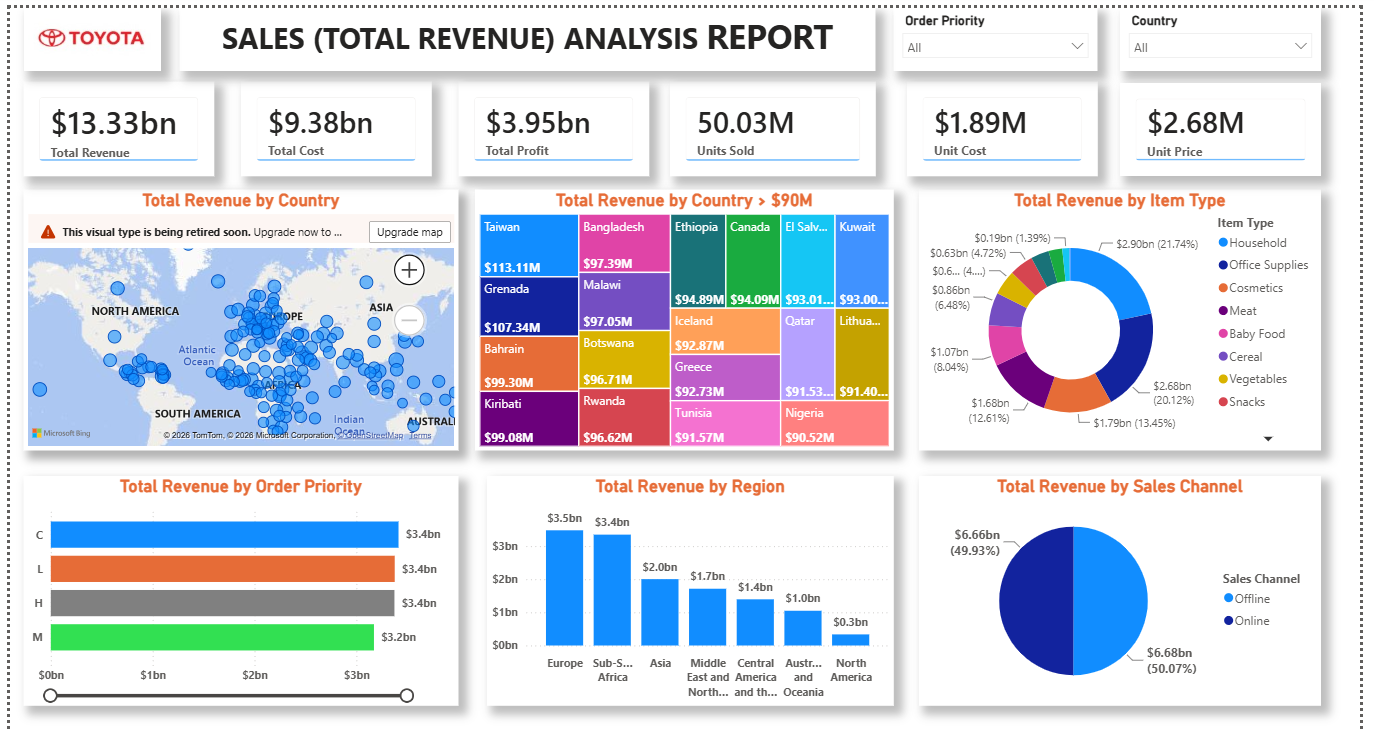

The page's visual inventory and layout, read from the dashboard file:
{"tool":"powerbi","page":{"name":"Page 1","canvas":[1500,900],"ordinal":0},"visuals":[{"type":"map","title":"Total Revenue by Country","fields":{"Category":["SalesRecords.Country"],"Size":["Sum(SalesRecords.Total Revenue)"]},"box":[15,201.7,483.3,290],"z":0},{"type":"slicer","title":"Total Revenue by Country > $90M","fields":{"Values":["SalesRecords.Country"]},"box":[1233.3,0,223.3,70],"z":1000},{"type":"donutChart","title":"Total Revenue by Item Type","fields":{"Category":["SalesRecords.Item Type"],"Y":["Sum(SalesRecords.Total Revenue)"]},"box":[1010,201.7,446.7,290],"z":2000},{"type":"barChart","title":"Total Revenue by Order Priority","fields":{"Category":["SalesRecords.Order Priority"],"Y":["Sum(SalesRecords.Total Revenue)"]},"box":[15,520,483.3,255],"z":3000},{"type":"columnChart","title":"Total Revenue by Region","fields":{"Category":["SalesRecords.Region"],"Y":["Sum(SalesRecords.Total Revenue)"]},"box":[530,520,451.7,255],"z":4000},{"type":"pieChart","title":"Total Revenue by Sales Channel","fields":{"Category":["SalesRecords.Sales Channel"],"Y":["Sum(SalesRecords.Total Revenue)"]},"box":[1010,520,446.7,255],"z":5000},{"type":"cardVisual","fields":{"Data":["Sum(SalesRecords.Total Revenue)"]},"box":[15,81.7,211.7,105],"z":6000},{"type":"cardVisual","fields":{"Data":["Sum(SalesRecords.Total Cost)"]},"box":[256.7,81.7,211.7,105],"z":7000},{"type":"cardVisual","fields":{"Data":["Sum(SalesRecords.Total Profit)"]},"box":[498.3,81.7,211.7,105],"z":8000},{"type":"cardVisual","fields":{"Data":["Sum(SalesRecords.Units Sold)"]},"box":[733.3,81.7,228.3,105],"z":9000},{"type":"cardVisual","fields":{"Data":["Sum(SalesRecords.Unit Cost)"]},"box":[996.7,81.7,211.7,105],"z":10000},{"type":"cardVisual","fields":{"Data":["Sum(SalesRecords.Unit Price)"]},"box":[1233.3,83.3,223.3,103.3],"z":11000},{"type":"treemap","title":"Total Revenue by Country > $90M","fields":{"Group":["SalesRecords.Country"],"Values":["Sum(SalesRecords.Total Revenue)"]},"box":[516.7,201.7,465,290],"z":12000},{"type":"slicer","fields":{"Values":["SalesRecords.Order Priority"]},"box":[981.7,0,226.7,70],"z":13000},{"type":"textbox","box":[188.3,0,773.3,70],"z":14000},{"type":"image","box":[15,0,153.3,70],"z":15000}]}

Visuals, with their boxes on the page's 1500x900 design canvas (x1, y1, x2, y2). These are canvas units, not pixel positions in the 1374x732 screenshot, which may show the page scaled, cropped or inside an application window:
"Total Revenue by Country" map: rect(15, 202, 498, 492)
"Total Revenue by Country > $90M" slicer: rect(1233, 0, 1457, 70)
"Total Revenue by Item Type" donutChart: rect(1010, 202, 1457, 492)
"Total Revenue by Order Priority" barChart: rect(15, 520, 498, 775)
"Total Revenue by Region" columnChart: rect(530, 520, 982, 775)
"Total Revenue by Sales Channel" pieChart: rect(1010, 520, 1457, 775)
cardVisual - Sum(SalesRecords.Total Revenue): rect(15, 82, 227, 187)
cardVisual - Sum(SalesRecords.Total Cost): rect(257, 82, 468, 187)
cardVisual - Sum(SalesRecords.Total Profit): rect(498, 82, 710, 187)
cardVisual - Sum(SalesRecords.Units Sold): rect(733, 82, 962, 187)
cardVisual - Sum(SalesRecords.Unit Cost): rect(997, 82, 1208, 187)
cardVisual - Sum(SalesRecords.Unit Price): rect(1233, 83, 1457, 187)
"Total Revenue by Country > $90M" treemap: rect(517, 202, 982, 492)
slicer - SalesRecords.Order Priority: rect(982, 0, 1208, 70)
textbox: rect(188, 0, 962, 70)
image: rect(15, 0, 168, 70)
